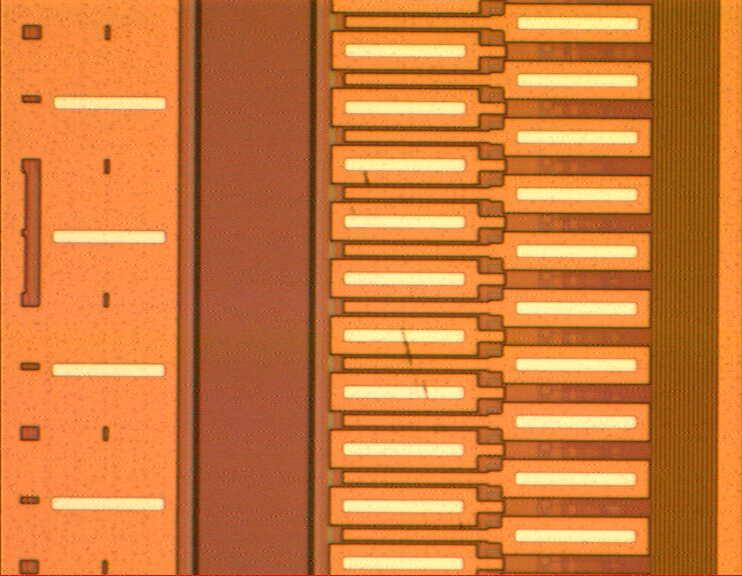SCRATCH: (355, 158, 479, 552)
